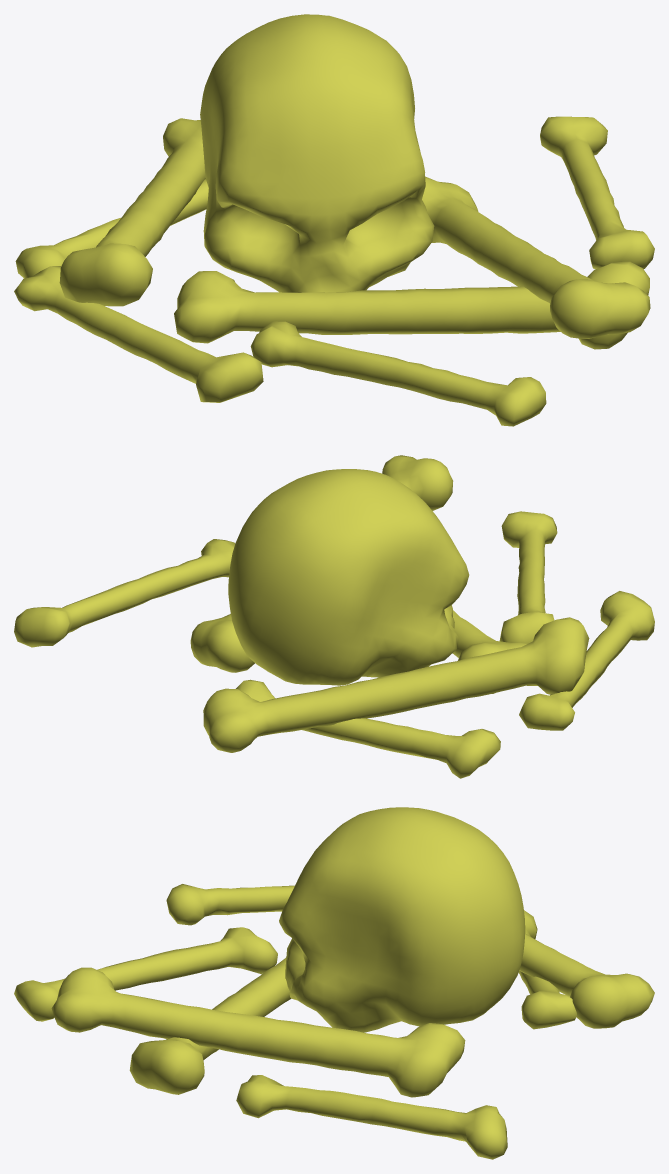
File: BonePile.fbx
3 views of the same model, one above another, from view 1: azimuth 30°, elevation 25°; view 2: azimuth 150°, elevation 25°; view 3: azimuth 270°, elevation 25° (orthographic). The views are drawn at different scales.
Parts seen in each view (by area): view 1: Skull; view 2: Skull; view 3: Skull.
Part boxes in pixels (left/top/right/bottom): Skull: left=14, top=14, right=654, bottom=426; Skull: left=14, top=455, right=654, bottom=778; Skull: left=14, top=807, right=654, bottom=1159.
Bounding box in the file's own units: 16.23 × 6.33 × 16.77.
